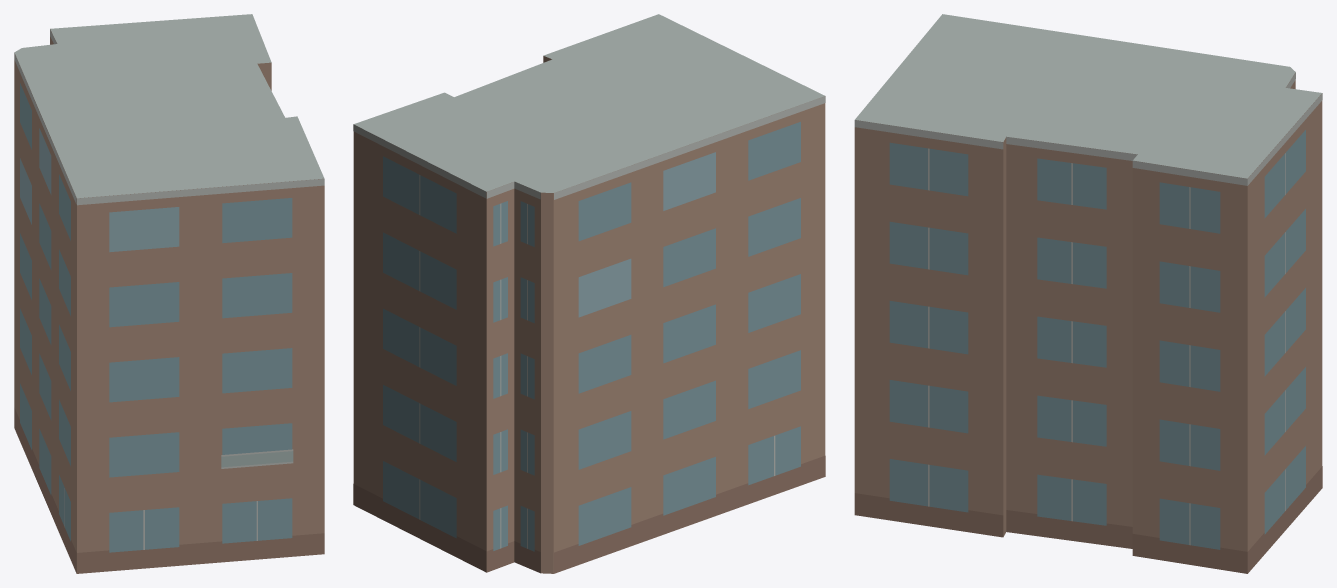
The model's file is survey-upis-32538276.glb.
3 renders of one model, left to right at view 1: azimuth 30°, elevation 25°; view 2: azimuth 150°, elevation 25°; view 3: azimuth 270°, elevation 25°, orthographic. The views are drawn at different scales.
Visible parts, largest first — view 1: survey-upis-32538276.tmp; view 2: survey-upis-32538276.tmp; view 3: survey-upis-32538276.tmp.
Part boxes in pixels (x1=…): survey-upis-32538276.tmp: x1=14, y1=14, x2=324, y2=573; survey-upis-32538276.tmp: x1=353, y1=14, x2=825, y2=573; survey-upis-32538276.tmp: x1=854, y1=14, x2=1322, y2=573.
Size of the model in its own units: 11.8 by 13.2 by 14.17.
